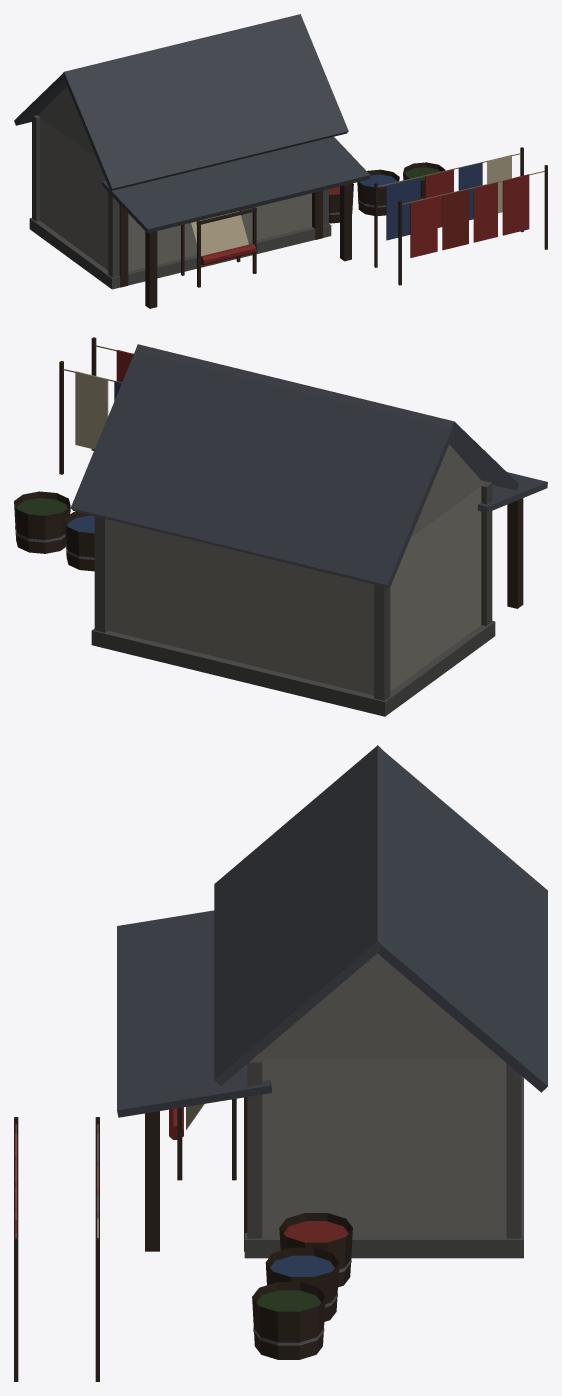
The model's file is walk_freehold_weaver.glb.
The picture shows the model from 3 angles, top to bottom: view 1: azimuth 30°, elevation 25°; view 2: azimuth 150°, elevation 25°; view 3: azimuth 270°, elevation 25°; orthographic projection. The views are drawn at different scales.
Parts seen in each view (by area): view 1: walk_freehold_weaver_roof, walk_freehold_weaver; view 2: walk_freehold_weaver, walk_freehold_weaver_roof; view 3: walk_freehold_weaver_roof, walk_freehold_weaver.
Part boxes in pixels (x1=…): walk_freehold_weaver_roof: x1=14, y1=14, x2=370, y2=233; walk_freehold_weaver: x1=29, y1=86, x2=547, y2=308; walk_freehold_weaver: x1=14, y1=337, x2=523, y2=716; walk_freehold_weaver_roof: x1=70, y1=344, x2=547, y2=588; walk_freehold_weaver_roof: x1=117, y1=745, x2=547, y2=1117; walk_freehold_weaver: x1=14, y1=953, x2=523, y2=1381.
Size of what is drawn, in the model's own units: 10.83 by 5.25 by 7.83.
Materials: 2 (2 with a texture image).
